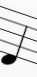note: (1, 4, 28, 66)
